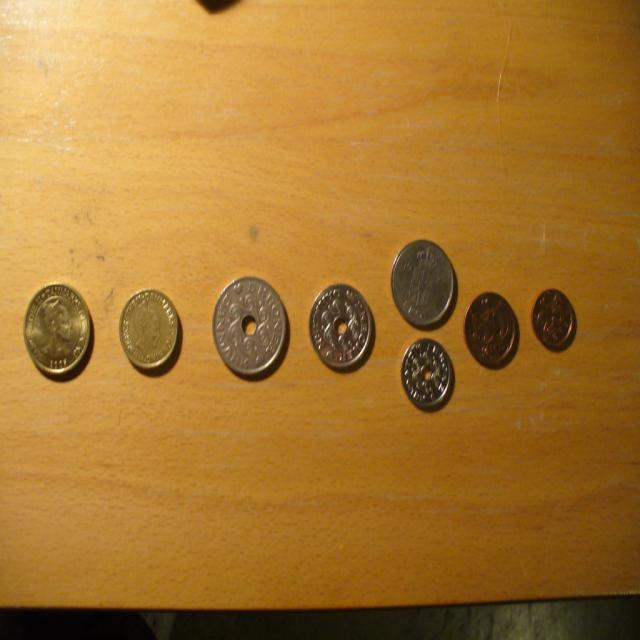Coin: (213, 270, 285, 374), (20, 280, 91, 370), (389, 236, 456, 330), (309, 285, 371, 374), (115, 288, 180, 371), (400, 337, 458, 404), (465, 288, 515, 359), (530, 286, 580, 351)
